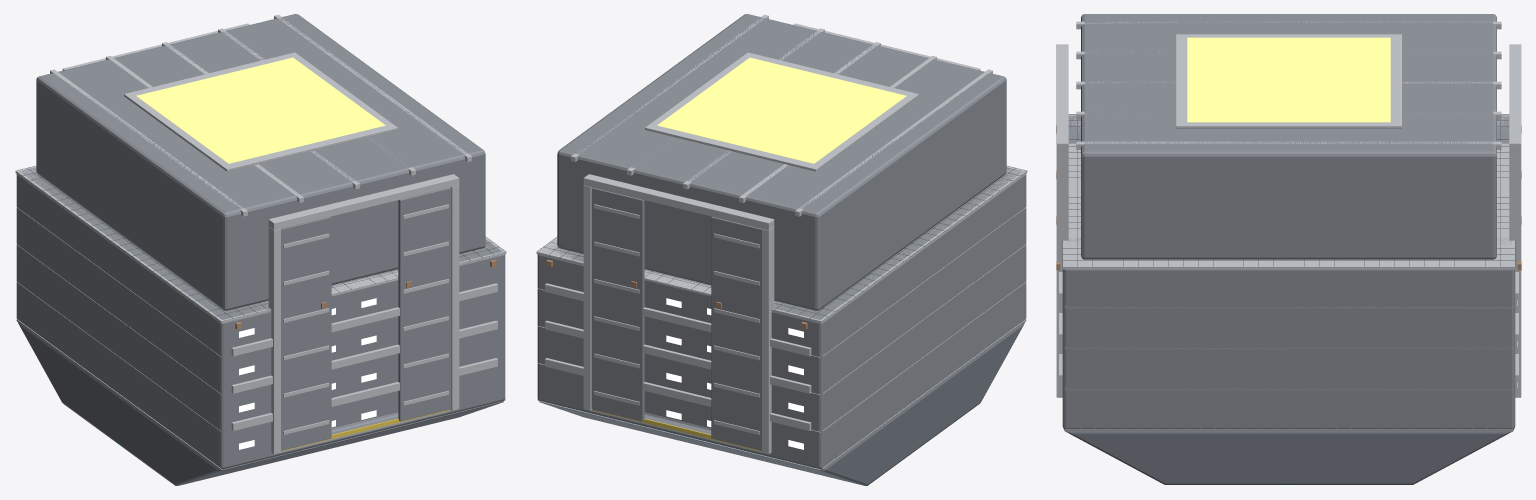
File: ship_hangar_30x24.glb
The picture shows the model from 3 angles, left to right: view 1: azimuth 30°, elevation 25°; view 2: azimuth 150°, elevation 25°; view 3: azimuth 270°, elevation 25°; orthographic projection. The views are drawn at different scales.
Parts seen in each view (by area): view 1: ext_hump, ext_hull, ext_launch_glow, ext_door02, ext_door00, ext_hull_belly, ext_door_frame0, ext_armor_plates, ext_launch_frame, ext_hump_ribs, ext_deck_top, ext_door_ribs00 (+3 smaller); view 2: ext_hump, ext_hull, ext_launch_glow, ext_door22, ext_door20, ext_hull_belly, ext_door_frame2, ext_armor_plates, ext_launch_frame, ext_deck_top, ext_hump_ribs, ext_door_ribs20 (+3 smaller); view 3: ext_hump, ext_hull, ext_hull_belly, ext_launch_glow, ext_deck_top, ext_launch_frame, ext_door_frame0, ext_door_frame2, ext_hump_ribs, ext_deck_grid, int_deck0, int_deck1 (+3 smaller).
Boxes of the visible parts, x1,y1,x2,y2 form: ext_hump: (36, 14, 485, 310); ext_hull: (16, 167, 505, 469); ext_launch_glow: (136, 57, 385, 163); ext_door02: (398, 187, 451, 421); ext_door00: (281, 216, 331, 450); ext_hull_belly: (18, 322, 503, 485); ext_door_frame0: (268, 174, 459, 454); ext_armor_plates: (231, 283, 497, 430); ext_launch_frame: (124, 52, 397, 171); ext_hump_ribs: (50, 14, 471, 216); ext_deck_top: (15, 166, 506, 323); ext_door_ribs00: (283, 233, 329, 434); ext_hump: (557, 14, 1006, 310); ext_hull: (537, 167, 1026, 469); ext_launch_glow: (657, 57, 906, 163); ext_door22: (591, 187, 644, 421); ext_door20: (711, 216, 761, 450); ext_hull_belly: (539, 322, 1024, 485); ext_door_frame2: (583, 174, 774, 454); ext_armor_plates: (545, 283, 811, 430); ext_launch_frame: (645, 52, 918, 171); ext_deck_top: (536, 166, 1027, 323); ext_hump_ribs: (571, 14, 992, 216); ext_door_ribs20: (713, 233, 759, 434); ext_hump: (1081, 14, 1496, 259); ext_hull: (1062, 115, 1515, 429); ext_hull_belly: (1064, 429, 1513, 484); ext_launch_glow: (1187, 37, 1390, 122); ext_deck_top: (1062, 114, 1515, 269); ext_launch_frame: (1176, 34, 1401, 128); ext_door_frame0: (1056, 44, 1068, 397); ext_door_frame2: (1509, 44, 1521, 397); ext_hump_ribs: (1076, 21, 1501, 149); ext_deck_grid: (1062, 114, 1515, 267); int_deck0: (1065, 429, 1512, 431); int_deck1: (1065, 388, 1512, 390).
Bounding box in the file's own units: 24.02 × 24.12 × 30.86.
